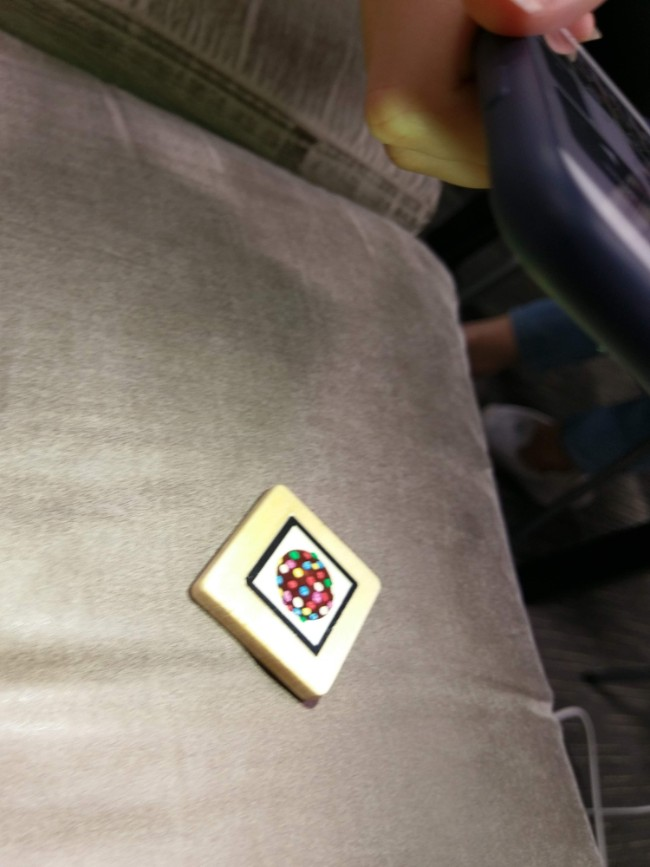cookie: (252, 522, 354, 651)
